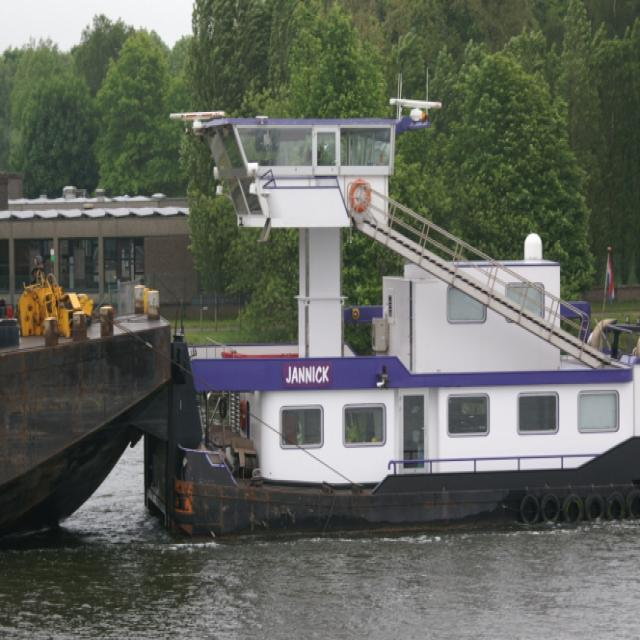tugboat: (160, 80, 640, 536)
